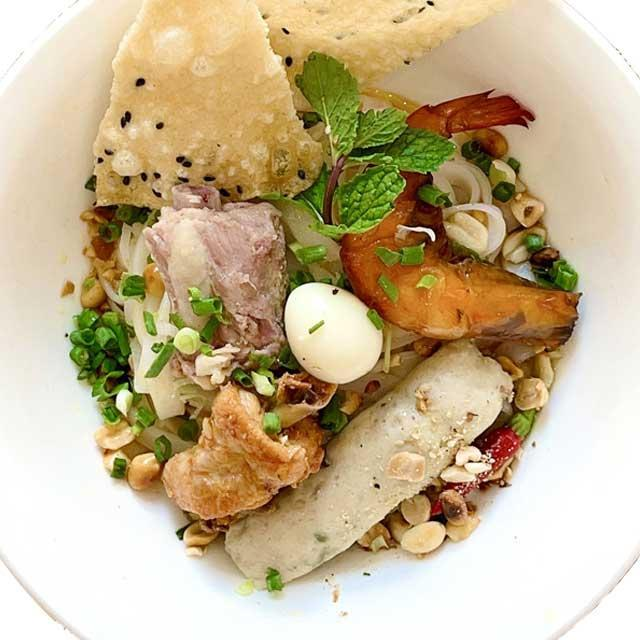banh da: (85, 0, 329, 221), (230, 0, 578, 134)
mi: (91, 206, 226, 461), (414, 150, 559, 290)
thit heo: (132, 175, 297, 398), (154, 361, 355, 532)
tom: (330, 82, 590, 361)
trung: (279, 278, 386, 388)
